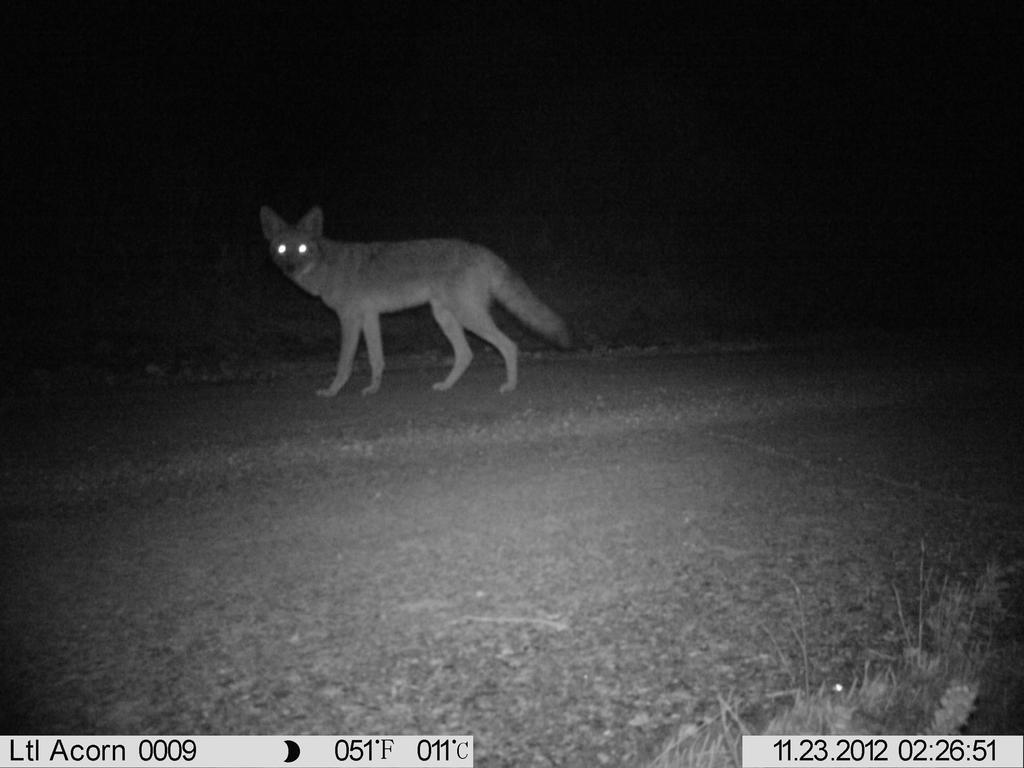coyote: (251, 199, 578, 402)
